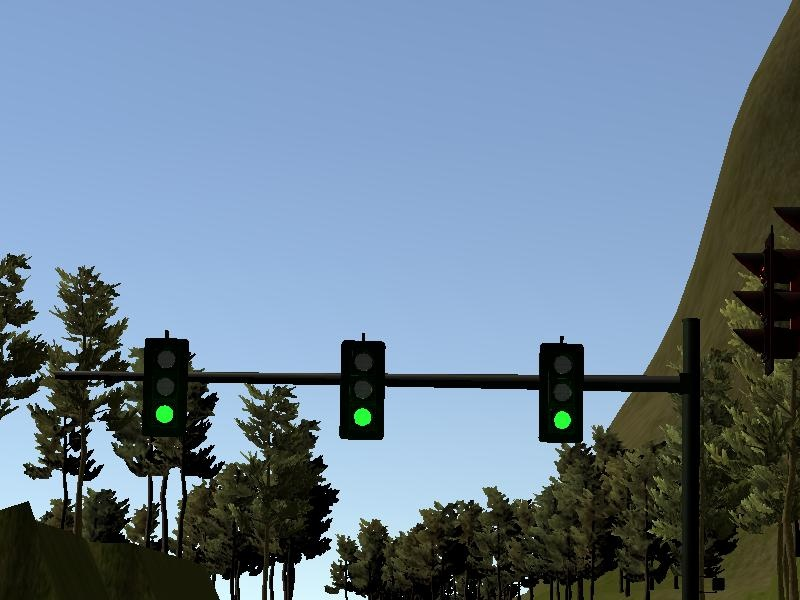traffic_light_green: (121, 333, 664, 444)
